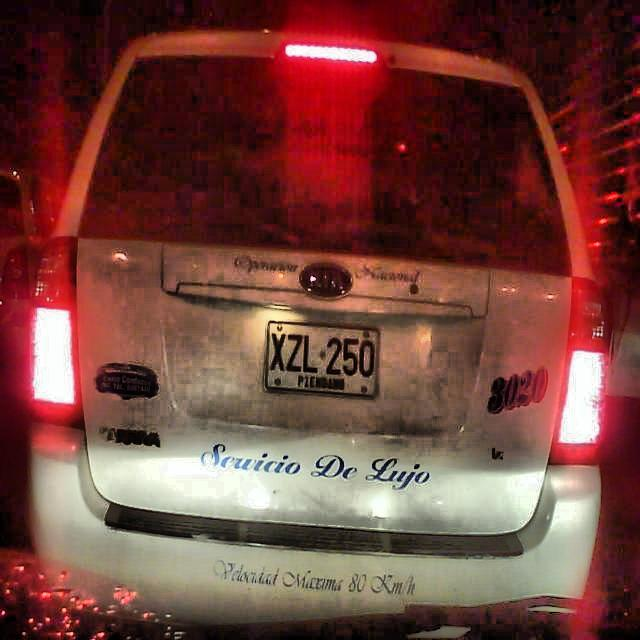plate: (267, 321, 378, 396)
